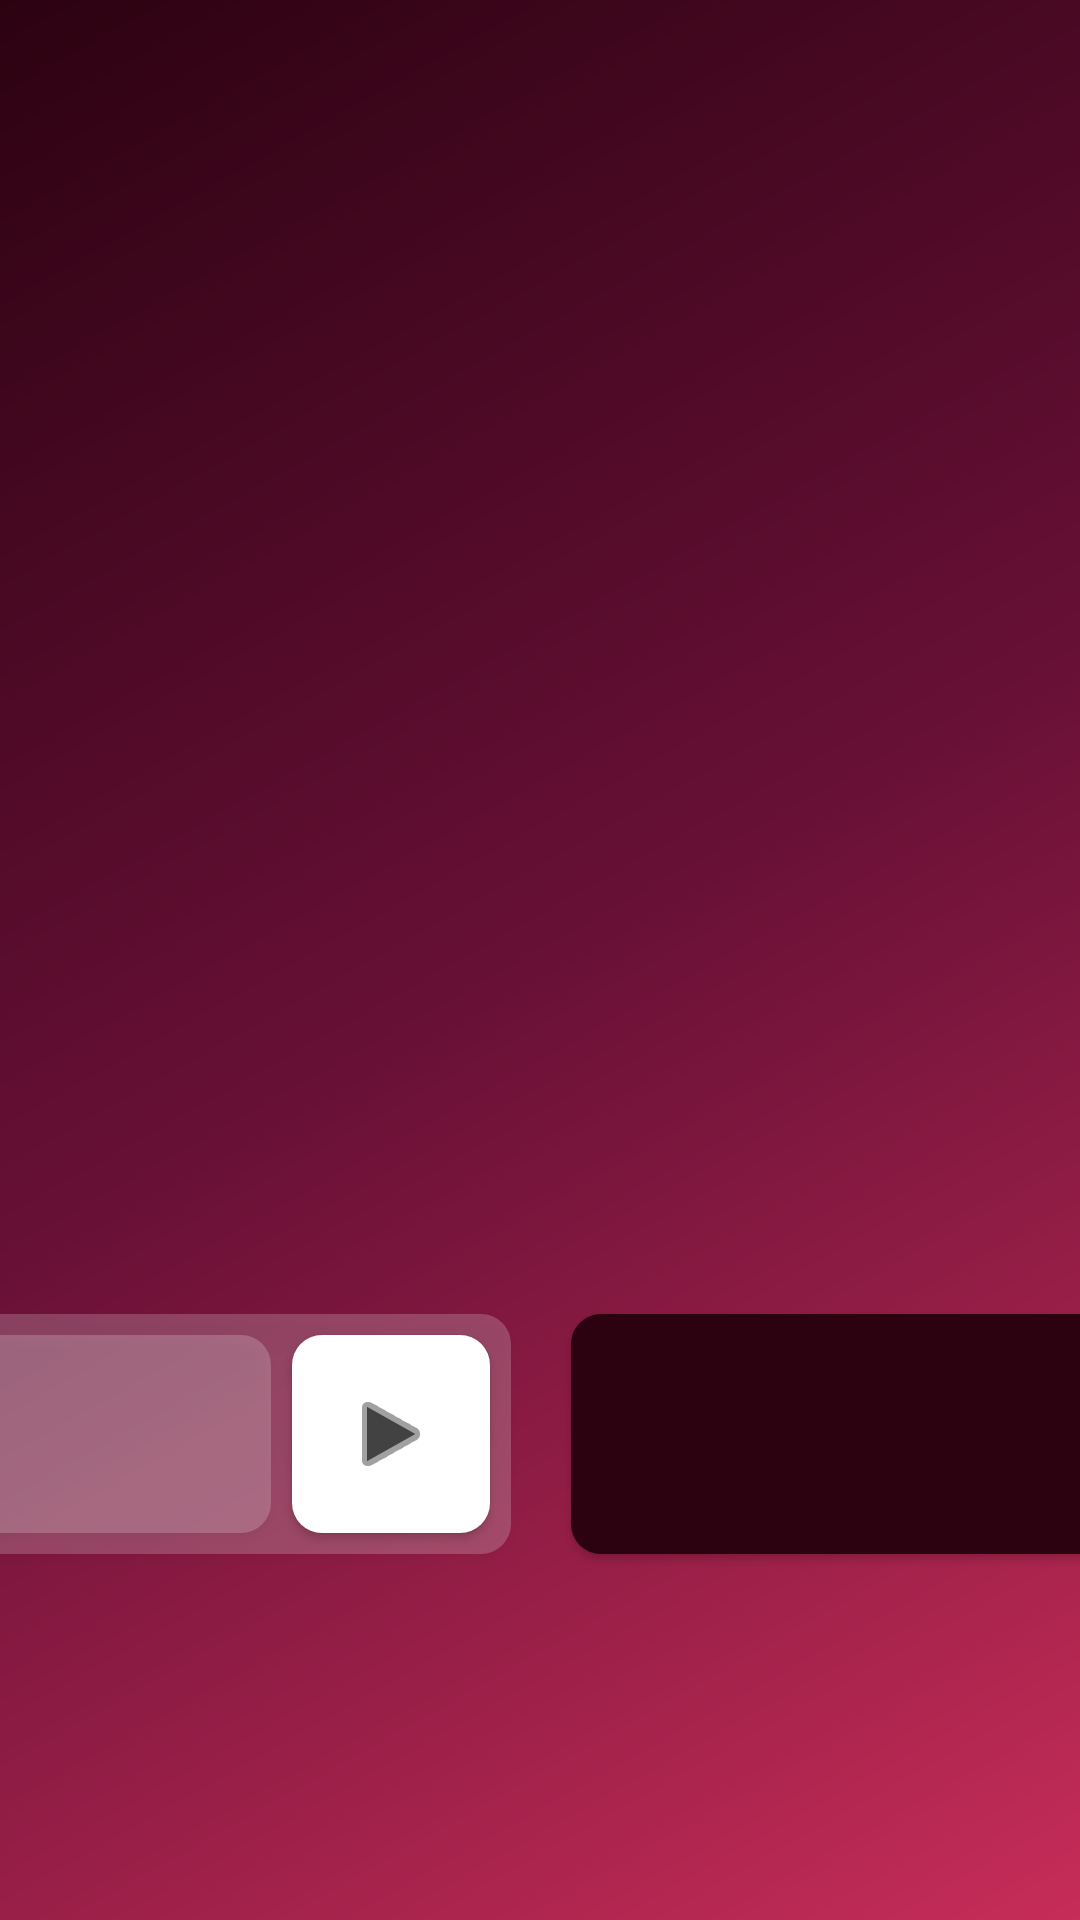

Screen size 1080px x 1920px. Icon name, then its center in pixels as [x,y]:
play: [391,1434]
